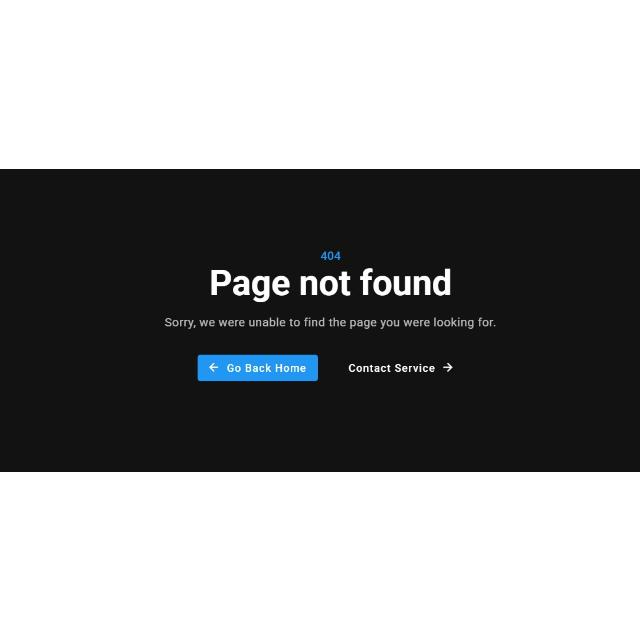QLabel: (208, 267, 452, 303), (164, 316, 496, 328), (348, 362, 436, 373), (227, 362, 306, 372), (320, 250, 340, 260)
VBtn: (196, 352, 320, 382)
VIcon: (442, 362, 453, 372), (209, 362, 219, 372)
